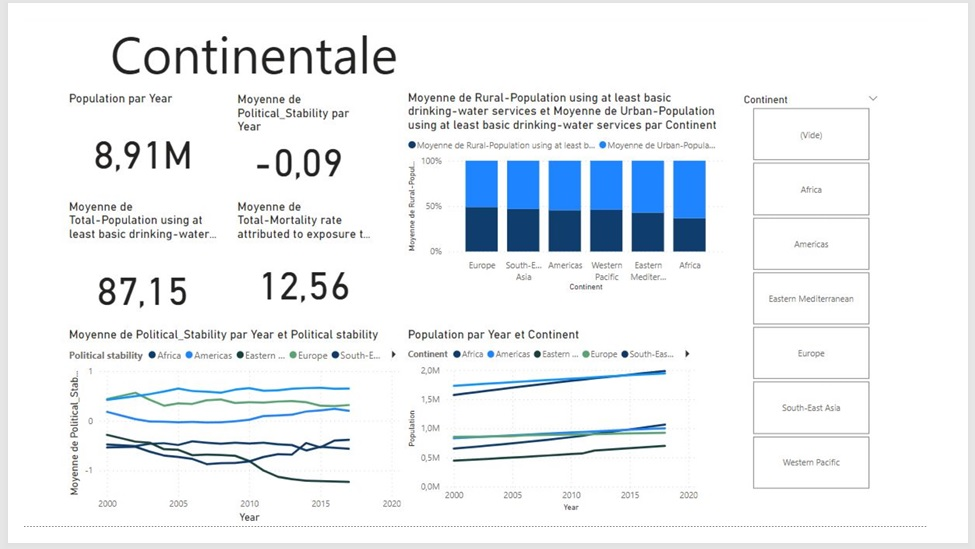

The page's visual inventory and layout, read from the dashboard file:
{"tool":"powerbi","page":{"name":"Continentale","canvas":[1280,720],"ordinal":1},"visuals":[{"type":"kpi","fields":{"Indicator":["Sum(Population_pivoté.Total)"],"TrendLine":["Population_pivoté.Year"]},"box":[61.7,106.9,218,160.4],"z":0},{"type":"kpi","fields":{"Indicator":["Avg(Population_pivoté.Political_Stability)"],"TrendLine":["Population_pivoté.Year"]},"box":[299.1,107.8,179.7,141.2],"z":1000},{"type":"kpi","fields":{"Indicator":["Avg(Population_pivoté.Total-Population using at least basic drinking-water services)"],"TrendLine":["Population_pivoté.Year"]},"box":[61.7,259.1,218,200.2],"z":2000},{"type":"kpi","fields":{"Indicator":["Avg(Population_pivoté.MortalityRate_pivoté.Total-Mortality rate attributed to exposure to unsafe WASH )"],"TrendLine":["Population_pivoté.Year"]},"box":[298.9,259.1,197.4,186.5],"z":3000},{"type":"textbox","box":[100.1,0,453.8,106.9],"z":4000},{"type":"lineChart","fields":{"Category":["Population_pivoté.Year"],"Y":["Avg(Population_pivoté.Political_Stability)"],"Series":["Population_pivoté.RegionCountry (2).REGION"]},"box":[61.7,438.7,477.1,281.1],"z":5000},{"type":"hundredPercentStackedColumnChart","fields":{"Category":["Population_pivoté.RegionCountry (2).REGION"],"Y":["Avg(Population_pivoté.Rural-Population using at least basic drinking-water services)","Avg(Population_pivoté.Urban-Population using at least basic drinking-water services)"]},"box":[538.8,105.6,453.8,287.9],"z":6000},{"type":"lineChart","fields":{"Category":["Population_pivoté.Year"],"Y":["Sum(Population_pivoté.Total)"],"Series":["Population_pivoté.RegionCountry (2).REGION"]},"box":[538.8,438.7,418.2,264.6],"z":7000},{"type":"slicer","fields":{"Values":["Population_pivoté.RegionCountry (2).REGION"]},"box":[1003.6,106.9,213.9,596.4],"z":8000}]}

Visuals, with their boxes in screenshot pixels (x1, y1, x2, y2), scaled from the page's 1280x720 canvas onto the 975x549 screenshot:
kpi - Sum(Population_pivoté.Total) x Population_pivoté.Year: <box>47,82,213,204</box>
kpi - Avg(Population_pivoté.Political_Stability) x Population_pivoté.Year: <box>228,82,365,190</box>
kpi - Avg(Population_pivoté.Total-Population using at least basic drinking-water services) x Population_pivoté.Year: <box>47,198,213,350</box>
kpi - Avg(Population_pivoté.MortalityRate_pivoté.Total-Mortality rate attributed to exposure to unsafe WASH ) x Population_pivoté.Year: <box>228,198,378,340</box>
textbox: <box>76,0,422,82</box>
lineChart - Population_pivoté.Year x Avg(Population_pivoté.Political_Stability): <box>47,335,410,548</box>
hundredPercentStackedColumnChart - Population_pivoté.RegionCountry (2).REGION x Avg(Population_pivoté.Rural-Population using at least basic drinking-water services): <box>410,81,756,300</box>
lineChart - Population_pivoté.Year x Sum(Population_pivoté.Total): <box>410,335,729,536</box>
slicer - Population_pivoté.RegionCountry (2).REGION: <box>764,82,927,536</box>
